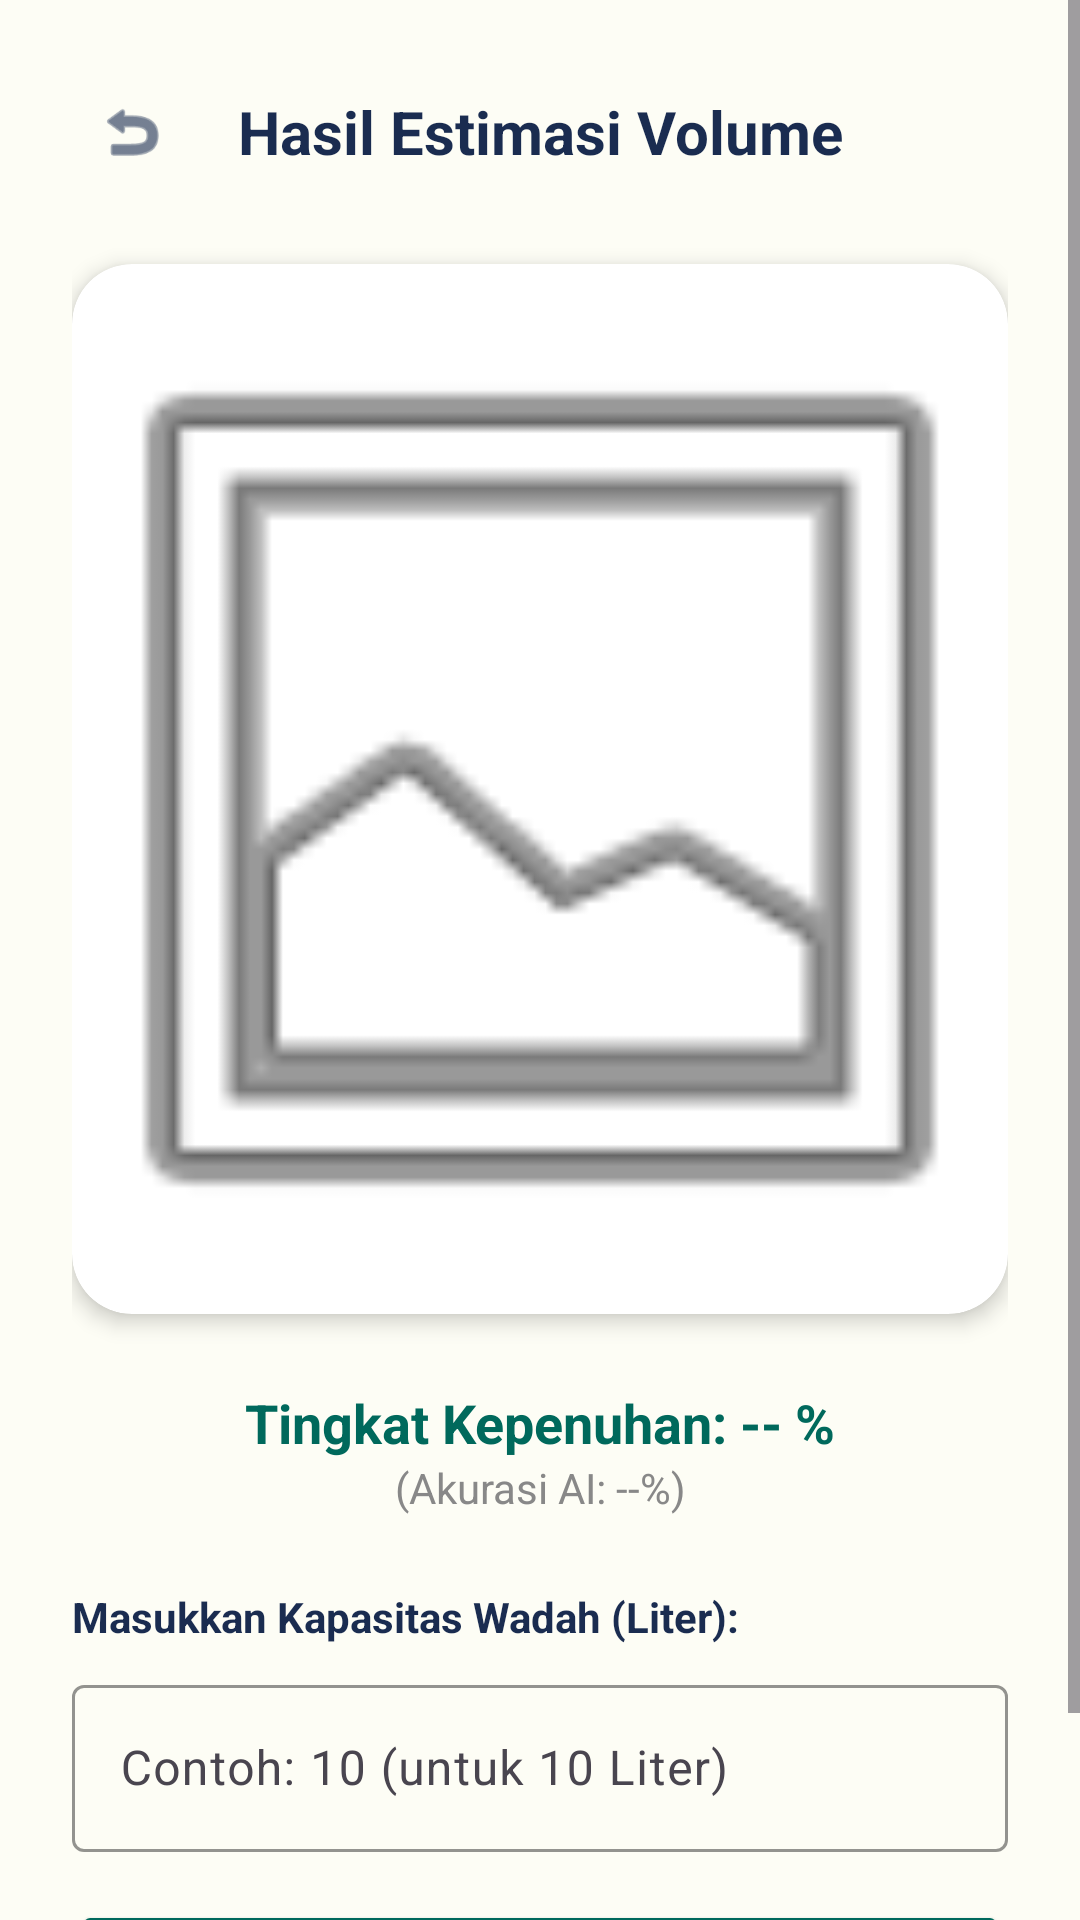

Point at icon controls on the screen. Image size 1080×1920, points as (x=x, y=y).
revert: (x=133, y=132)
